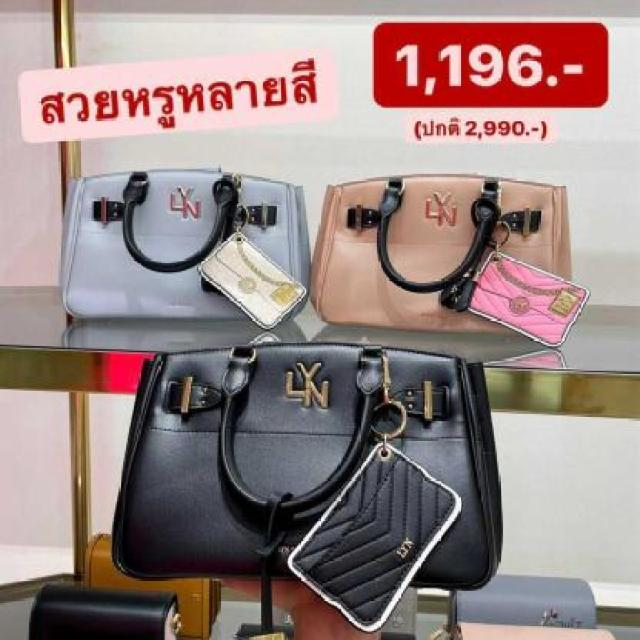Bag: (100, 319, 517, 630), (301, 152, 610, 358), (55, 141, 334, 342)
